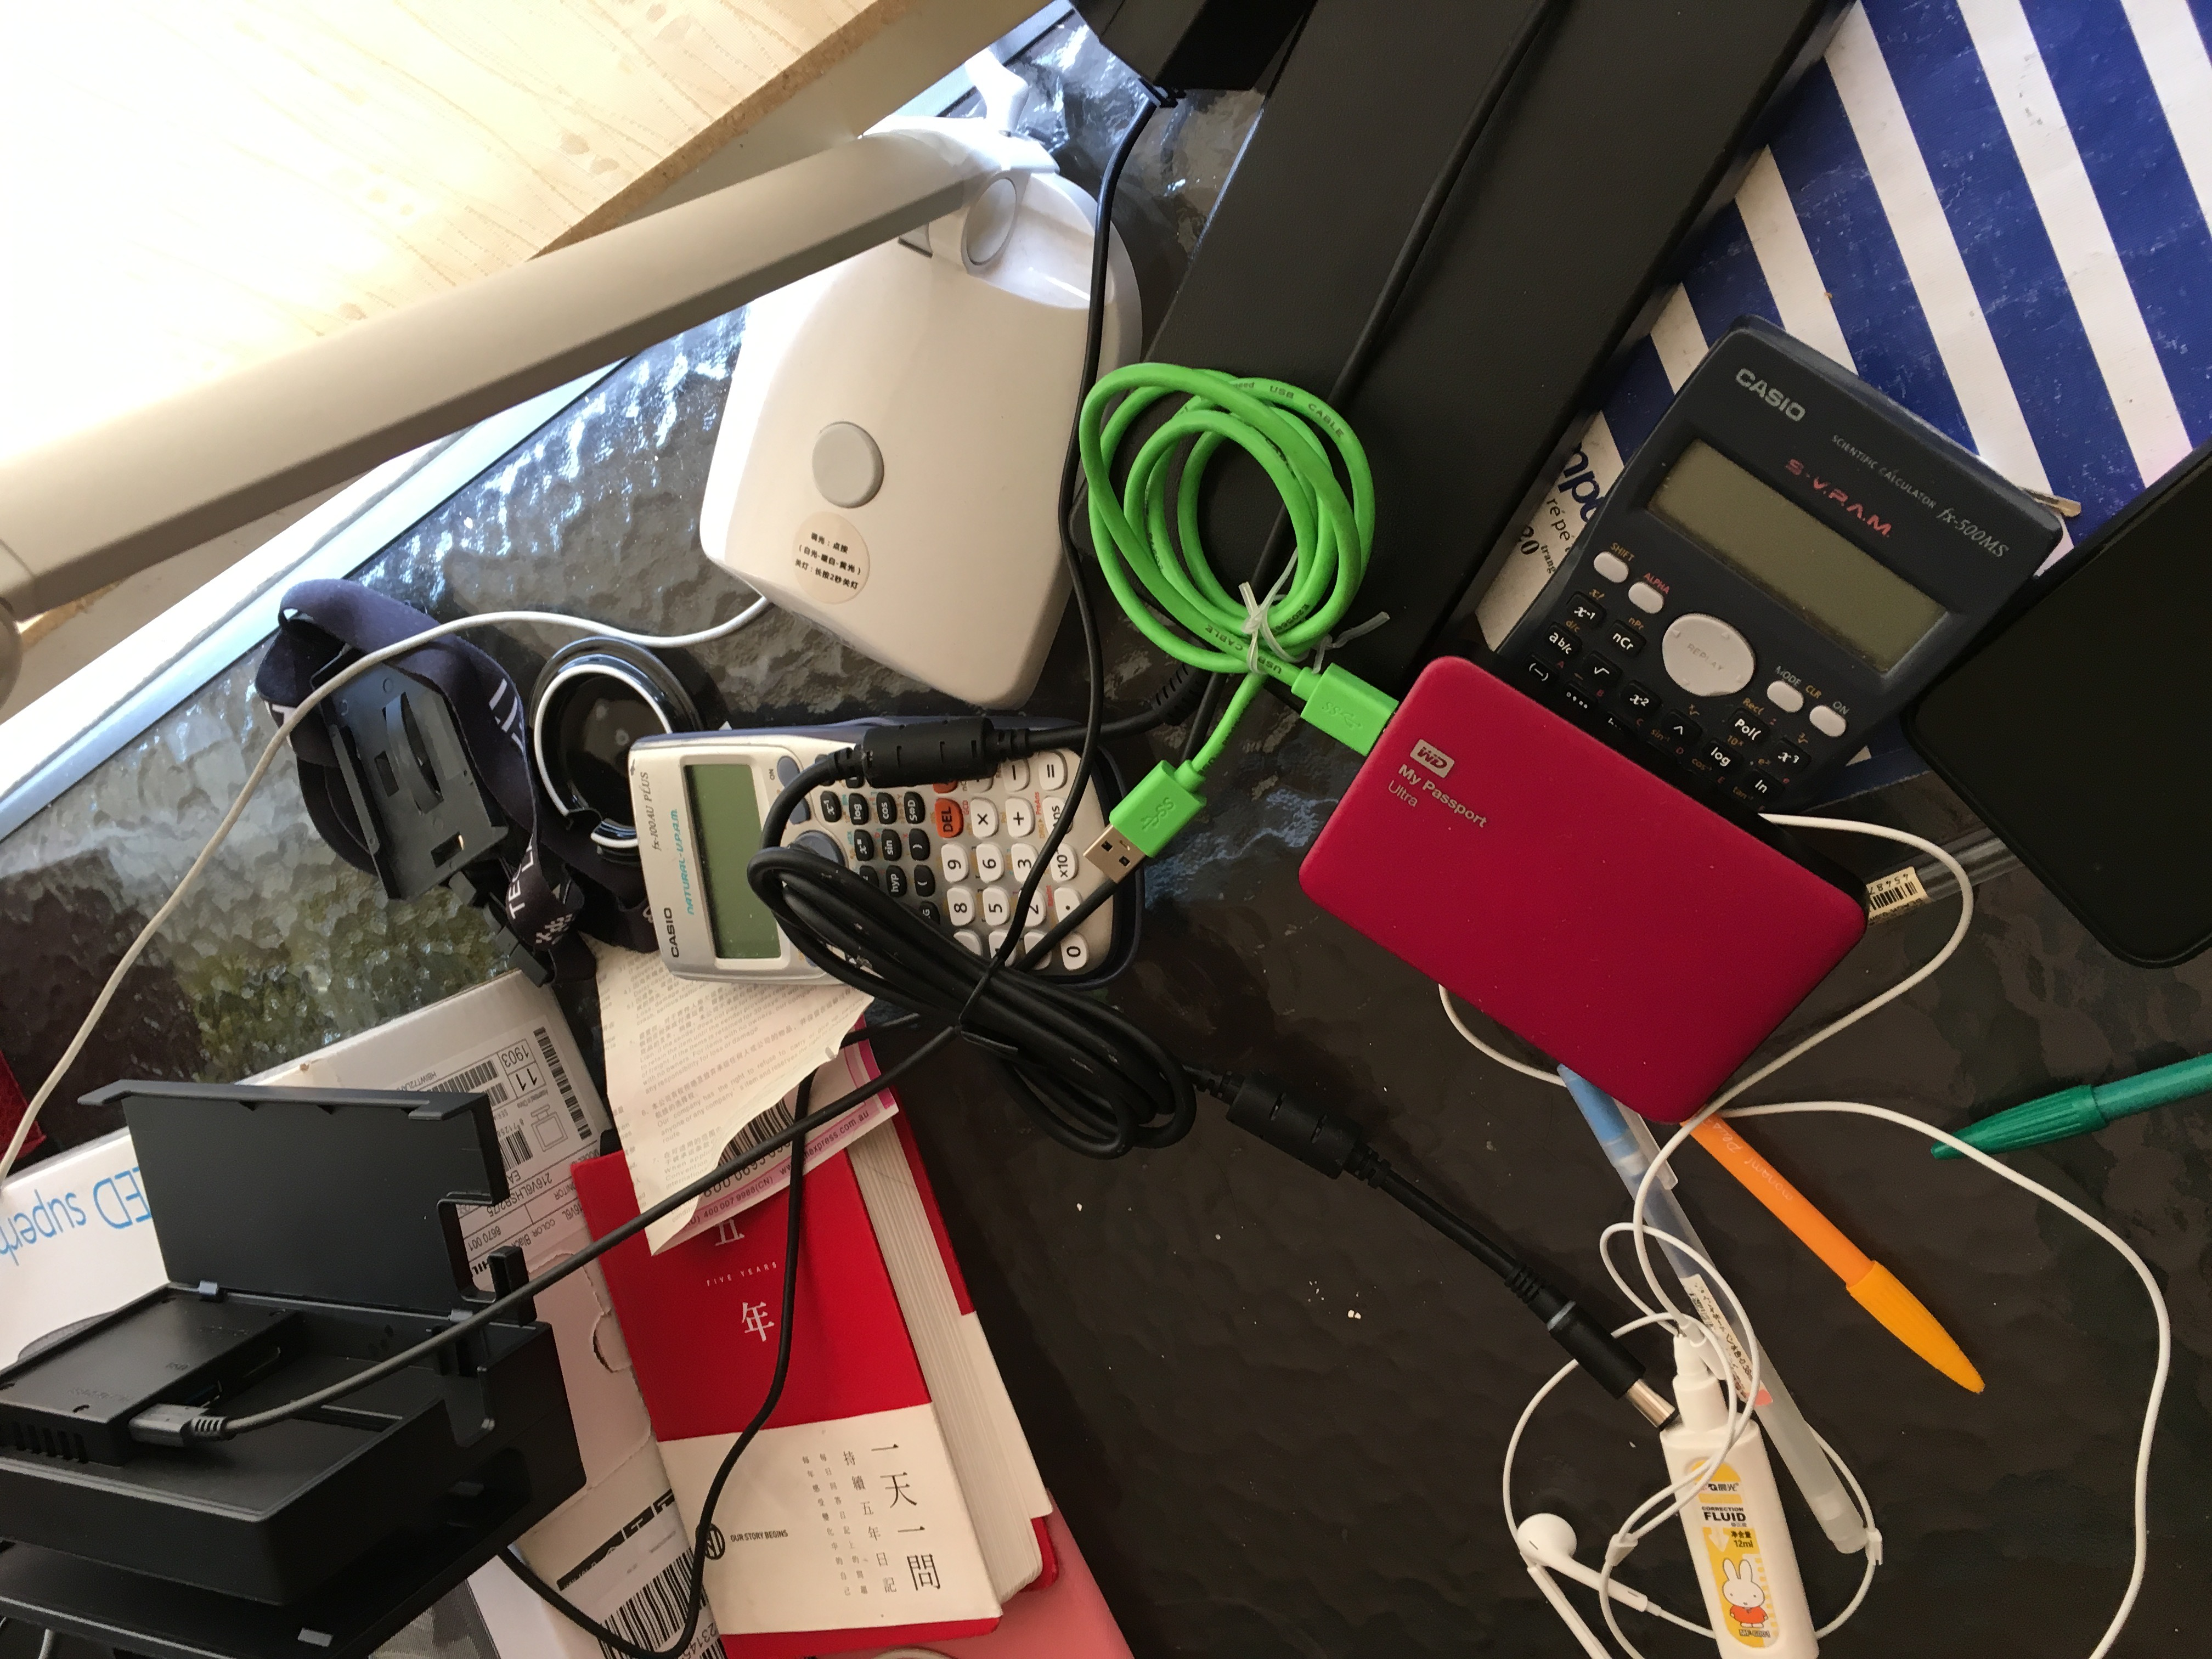Calculator: (1472, 321, 2066, 836), (617, 711, 1146, 1002)
